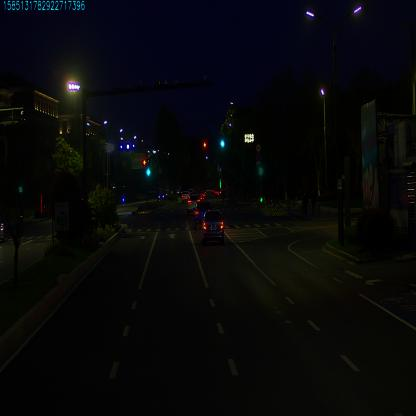traffic-light: (203, 138, 209, 148), (221, 137, 224, 148)
